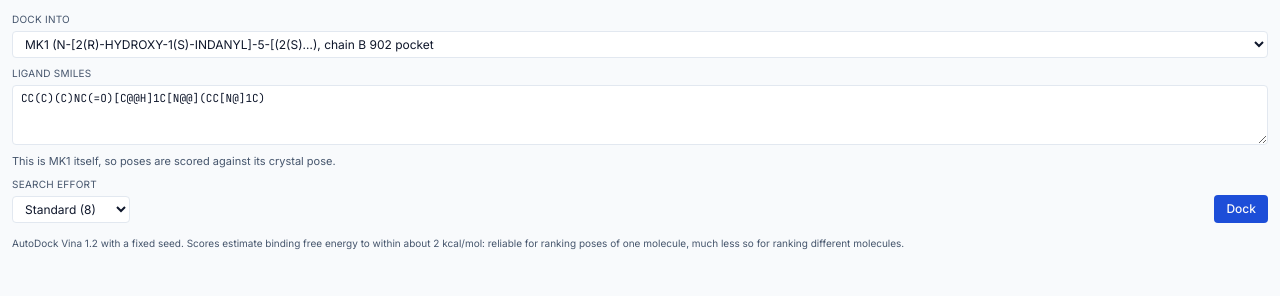
Test case: DockingPanel › shows Vina's refusal
Click the button "Dock" at (1241, 209), box [1214,195,1268,223]
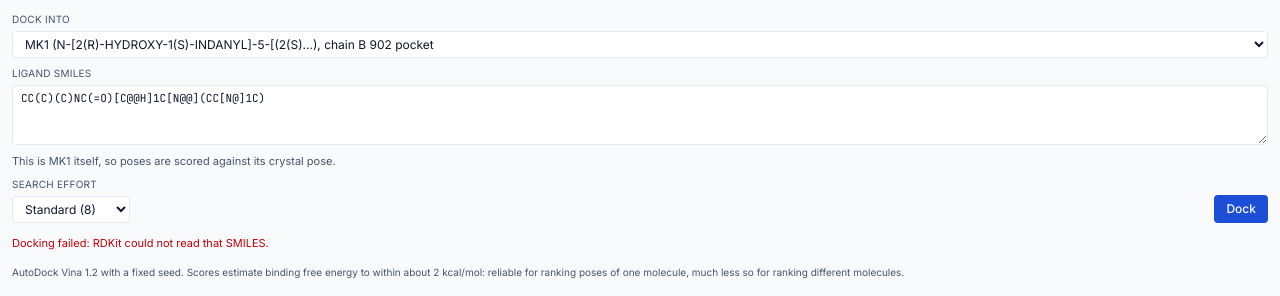
Expected: the message reads "Docking failed: RDKit could not read that SMILES.", [12,236,269,250]
